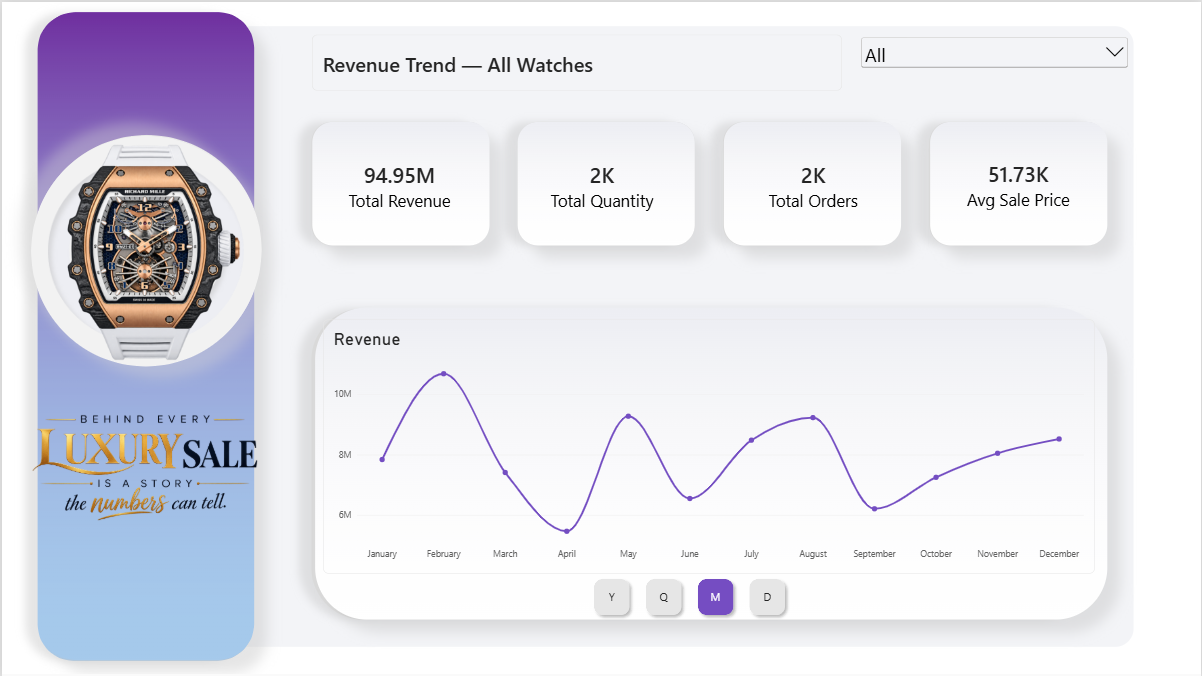

Layout of this report page (visuals, bound fields, positions):
{"tool":"powerbi","page":{"name":"Page 1","canvas":[1920,1080],"ordinal":0},"visuals":[{"type":"cardVisual","fields":{"Data":["Metrics.Total Revenue"]},"box":[496,191,280,206],"z":0},{"type":"cardVisual","fields":{"Data":["Metrics.Avg Sale Price"]},"box":[1486,190,280,206],"z":1},{"type":"cardVisual","fields":{"Data":["Metrics.Total Orders"]},"box":[1158,192,280,206],"z":2},{"type":"cardVisual","fields":{"Data":["Metrics.Total Quantity"]},"box":[820,192,280,206],"z":3},{"type":"slicer","fields":{"Values":["dimWatch.Full Name"]},"box":[1370,52,436,124],"z":4},{"type":"lineChart","title":"Revenue","fields":{"Y":["Metrics.Total Revenue"],"Category":["dimDate.Date.Variation.Date Hierarchy.Year","dimDate.Date.Variation.Date Hierarchy.Quarter","dimDate.Date.Variation.Date Hierarchy.Month","dimDate.Date.Variation.Date Hierarchy.Day"]},"box":[514,508,1234,406],"z":5},{"type":"cardVisual","fields":{"Data":["Metrics.Chart Title"]},"box":[496,52,848,90],"z":6},{"type":"image","box":[2,228,456,346],"z":7},{"type":"image","box":[0,646,458,192],"z":8},{"type":"bookmarkNavigator","box":[938,914,326,76],"z":10}]}

Visuals, with their boxes in screenshot pixels (x1, y1, x2, y2), scaled from the page's 1920x1080 canvas onto the 1202x676 screenshot:
cardVisual - Metrics.Total Revenue: (x1=311, y1=120, x2=486, y2=248)
cardVisual - Metrics.Avg Sale Price: (x1=930, y1=119, x2=1106, y2=248)
cardVisual - Metrics.Total Orders: (x1=725, y1=120, x2=900, y2=249)
cardVisual - Metrics.Total Quantity: (x1=513, y1=120, x2=689, y2=249)
slicer - dimWatch.Full Name: (x1=858, y1=33, x2=1131, y2=110)
"Revenue" lineChart: (x1=322, y1=318, x2=1094, y2=572)
cardVisual - Metrics.Chart Title: (x1=311, y1=33, x2=841, y2=89)
image: (x1=1, y1=143, x2=287, y2=359)
image: (x1=0, y1=404, x2=287, y2=525)
bookmarkNavigator: (x1=587, y1=572, x2=791, y2=620)
